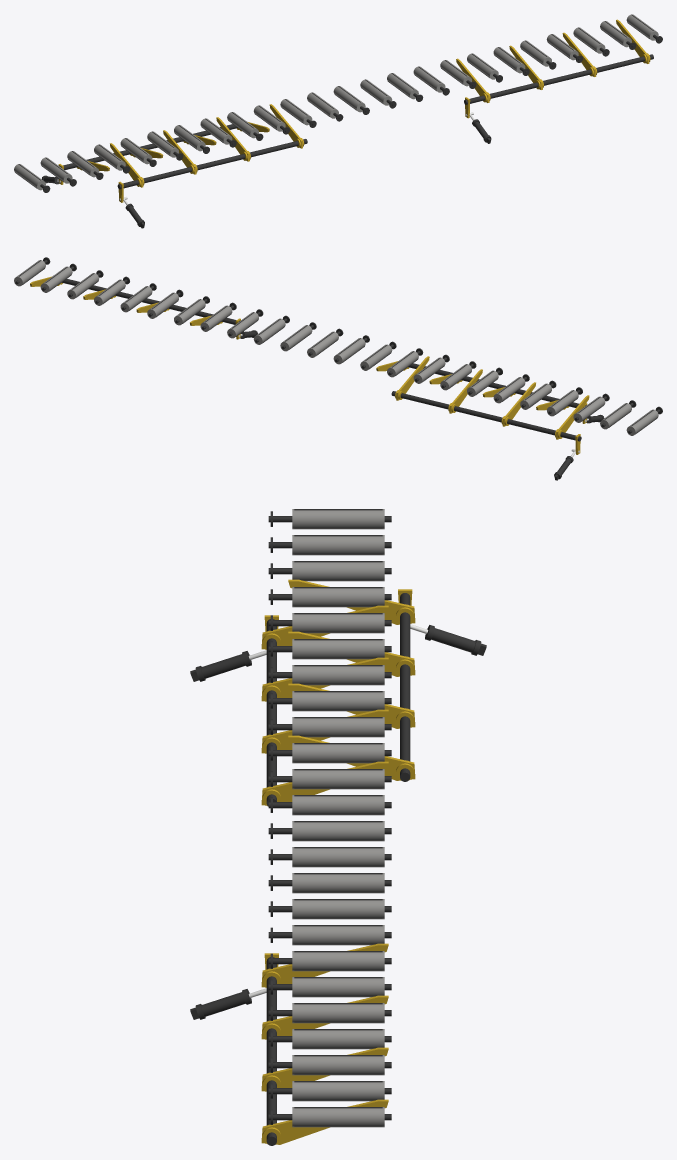
Rendered from headrig_outfeed_parts.glb.
The picture shows the model from 3 angles, top to bottom: view 1: azimuth 30°, elevation 25°; view 2: azimuth 150°, elevation 25°; view 3: azimuth 270°, elevation 25°; orthographic projection. The views are drawn at different scales.
Visible parts, largest first — view 1: HO_CantKickMesh, HO_BoardKickMesh, HO_SlabKickMesh, HO_Roll11Mesh, HO_Roll16Mesh, HO_Roll24Mesh, HO_Roll2Mesh, HO_Roll8Mesh, HO_Roll14Mesh, HO_Roll22Mesh, HO_Roll3Mesh, HO_Roll10Mesh (+15 smaller); view 2: HO_SlabKickMesh, HO_BoardKickMesh, HO_CantKickMesh, HO_Roll9Mesh, HO_Roll11Mesh, HO_Roll17Mesh, HO_Roll3Mesh, HO_Roll5Mesh, HO_Roll19Mesh, HO_Roll1Mesh, HO_Roll4Mesh, HO_Roll18Mesh (+15 smaller); view 3: HO_BoardKickMesh, HO_SlabKickMesh, HO_CantKickMesh, HO_Roll1Mesh, HO_Roll2Mesh, HO_Roll11Mesh, HO_Roll12Mesh, HO_Roll13Mesh, HO_Roll14Mesh, HO_Roll15Mesh, HO_Roll16Mesh, HO_Roll18Mesh (+15 smaller).
Part boxes in pixels (x1,y1,x2,y2): HO_CantKickMesh: (110,104,307,202); HO_BoardKickMesh: (456,19,653,118); HO_SlabKickMesh: (58,122,269,184); HO_Roll11Mesh: (280,99,316,127); HO_Roll16Mesh: (413,66,449,95); HO_Roll24Mesh: (626,14,662,43); HO_Roll2Mesh: (40,157,76,186); HO_Roll8Mesh: (200,118,236,147); HO_Roll14Mesh: (360,79,396,108); HO_Roll22Mesh: (573,27,609,56); HO_Roll3Mesh: (67,151,103,179); HO_Roll10Mesh: (253,105,289,134); HO_SlabKickMesh: (391,356,589,454); HO_BoardKickMesh: (30,276,240,339); HO_CantKickMesh: (376,361,587,423); HO_Roll9Mesh: (413,354,449,383); HO_Roll11Mesh: (360,341,396,370); HO_Roll17Mesh: (200,302,236,331); HO_Roll3Mesh: (573,393,609,422); HO_Roll5Mesh: (520,380,556,409); HO_Roll19Mesh: (147,289,183,318); HO_Roll1Mesh: (626,406,662,435); HO_Roll4Mesh: (546,387,582,416); HO_Roll18Mesh: (174,296,209,325); HO_BoardKickMesh: (261,943,388,1145); HO_SlabKickMesh: (288,579,415,781); HO_CantKickMesh: (261,605,388,806); HO_Roll1Mesh: (268,509,391,529); HO_Roll2Mesh: (268,535,391,555); HO_Roll11Mesh: (268,769,391,789); HO_Roll12Mesh: (268,795,391,815); HO_Roll13Mesh: (268,821,391,841); HO_Roll14Mesh: (268,847,391,867); HO_Roll15Mesh: (268,873,391,893); HO_Roll16Mesh: (268,899,391,919); HO_Roll18Mesh: (268,951,391,971).
Size of the model in its own units: 14 by 1.04 by 2.89.
